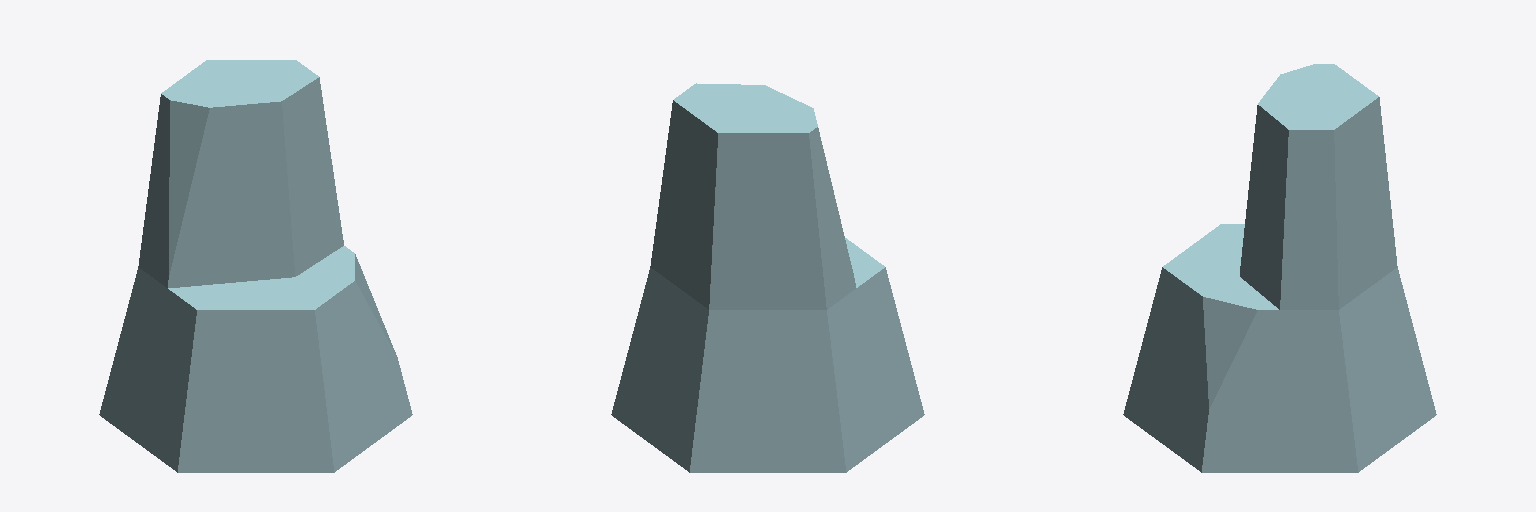
File: rock_tallF.obj
The picture shows the model from 3 angles: view 1: azimuth 30°, elevation 25°; view 2: azimuth 150°, elevation 25°; view 3: azimuth 270°, elevation 25°; orthographic projection.
Parts seen in each view (by area): view 1: rock_tallF; view 2: rock_tallF; view 3: rock_tallF.
Boxes of the visible parts, <box> form: rock_tallF: <box>99,60,412,472</box>; rock_tallF: <box>611,83,924,472</box>; rock_tallF: <box>1123,64,1436,472</box>.
Size of the model in its own units: 0.4437 by 0.5737 by 0.5123.